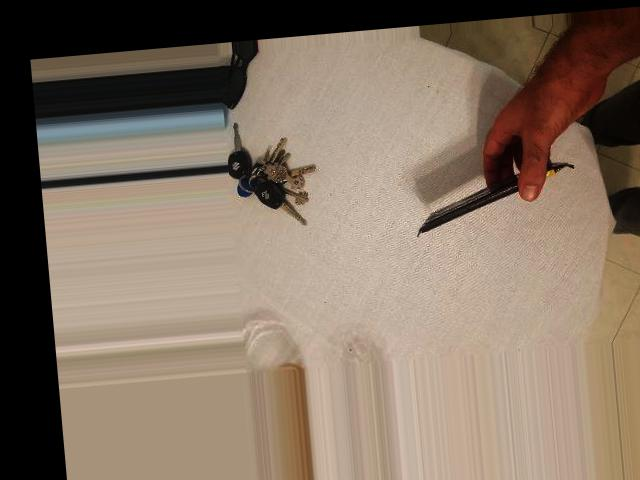chocolate: (402, 145, 565, 246)
